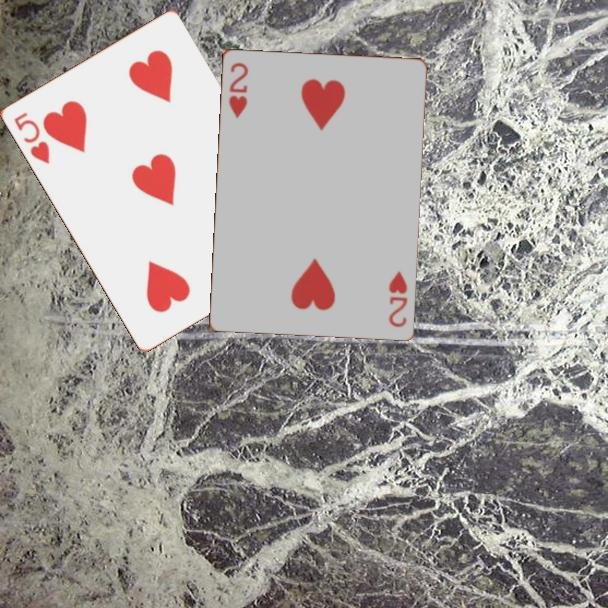h02: (225, 58, 251, 121), (385, 267, 410, 330)
h05: (10, 108, 52, 167)
